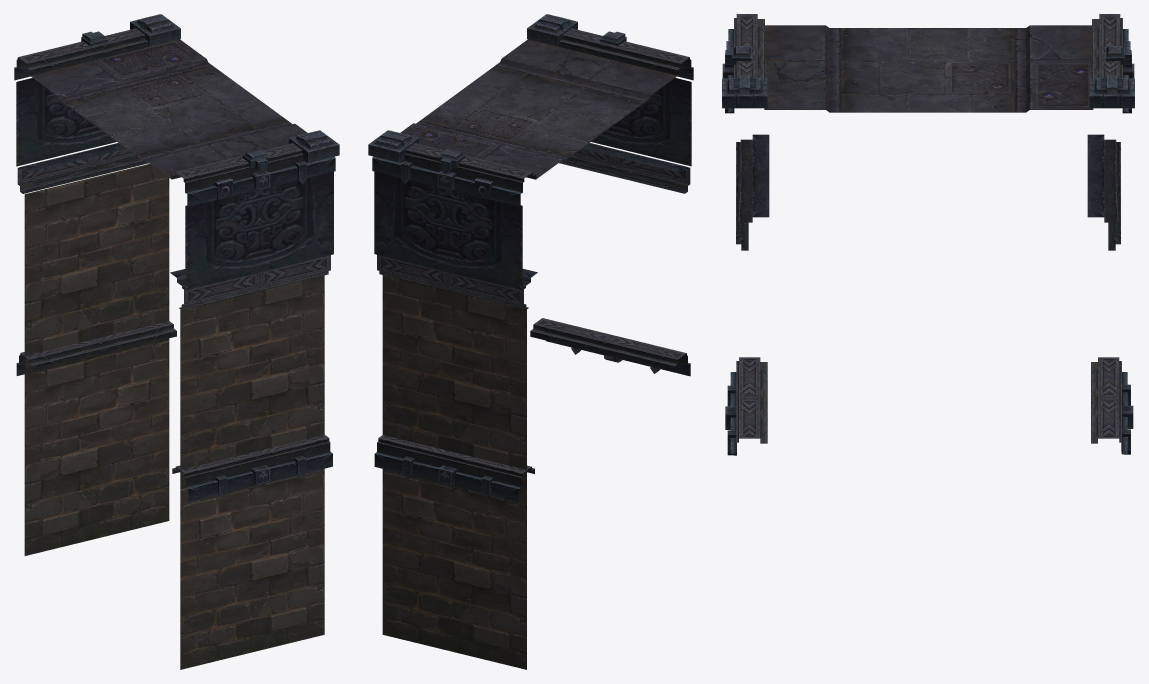
Rendered from milao_xianjieqiao_03.FBX.
The picture shows the model from 3 angles, left to right: view 1: azimuth 30°, elevation 25°; view 2: azimuth 150°, elevation 25°; view 3: azimuth 270°, elevation 25°; orthographic projection. The views are drawn at different scales.
Visible parts, largest first — view 1: 2_DXSD_ShiZhuanQiang_023, 2_DXSD_ShiZhuanQiang_021, 2_DXSD_ShiZhuanQiang_022, 2_DXSD_ShiZhuanQiang_01, 2_BTT_DiBiaoPinJieMoKuai_01_013, 2_BTT_DiBiaoPinJieMoKuai_01, 2_BTT_DiBiaoPinJieMoKuai_01_02, milao_xianjieqiao_03, milao_xianjieqiao_005; view 2: 2_DXSD_ShiZhuanQiang_023, 2_DXSD_ShiZhuanQiang_022, 2_BTT_DiBiaoPinJieMoKuai_01_02, 2_BTT_DiBiaoPinJieMoKuai_01, 2_BTT_DiBiaoPinJieMoKuai_01_013, milao_xianjieqiao_005, milao_xianjieqiao_03; view 3: 2_BTT_DiBiaoPinJieMoKuai_01, 2_BTT_DiBiaoPinJieMoKuai_01_02, 2_BTT_DiBiaoPinJieMoKuai_01_013, milao_xianjieqiao_03, milao_xianjieqiao_005.
Part boxes in pixels (box(x1,y1,x2,y2)): 2_DXSD_ShiZhuanQiang_023: box(24, 340, 169, 555); 2_DXSD_ShiZhuanQiang_021: box(180, 468, 324, 669); 2_DXSD_ShiZhuanQiang_022: box(24, 163, 169, 374); 2_DXSD_ShiZhuanQiang_01: box(180, 275, 324, 488); 2_BTT_DiBiaoPinJieMoKuai_01_013: box(170, 130, 339, 309); 2_BTT_DiBiaoPinJieMoKuai_01: box(30, 39, 307, 179); 2_BTT_DiBiaoPinJieMoKuai_01_02: box(14, 14, 180, 193); milao_xianjieqiao_03: box(172, 434, 332, 501); milao_xianjieqiao_005: box(16, 321, 176, 375); 2_DXSD_ShiZhuanQiang_023: box(382, 469, 526, 669); 2_DXSD_ShiZhuanQiang_022: box(382, 275, 526, 488); 2_BTT_DiBiaoPinJieMoKuai_01_02: box(368, 130, 537, 309); 2_BTT_DiBiaoPinJieMoKuai_01: box(400, 39, 676, 179); 2_BTT_DiBiaoPinJieMoKuai_01_013: box(527, 14, 693, 193); milao_xianjieqiao_005: box(374, 435, 534, 501); milao_xianjieqiao_03: box(530, 318, 690, 376); 2_BTT_DiBiaoPinJieMoKuai_01: box(764, 25, 1093, 112); 2_BTT_DiBiaoPinJieMoKuai_01_02: box(1087, 14, 1134, 250); 2_BTT_DiBiaoPinJieMoKuai_01_013: box(722, 14, 769, 250); milao_xianjieqiao_03: box(725, 357, 767, 455); milao_xianjieqiao_005: box(1091, 357, 1133, 454).
Bounding box in the file's own units: 10.02 × 32.12 × 20.67.
3 materials, 3 textured.
